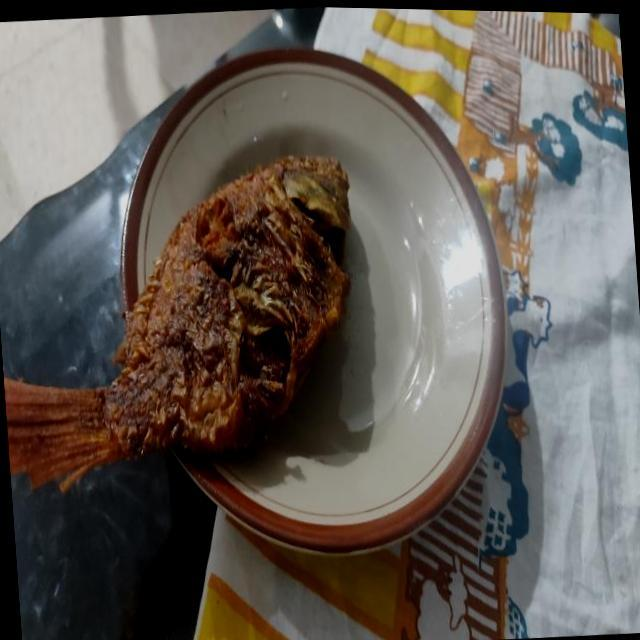ikan_mujair: (3, 156, 350, 491)
